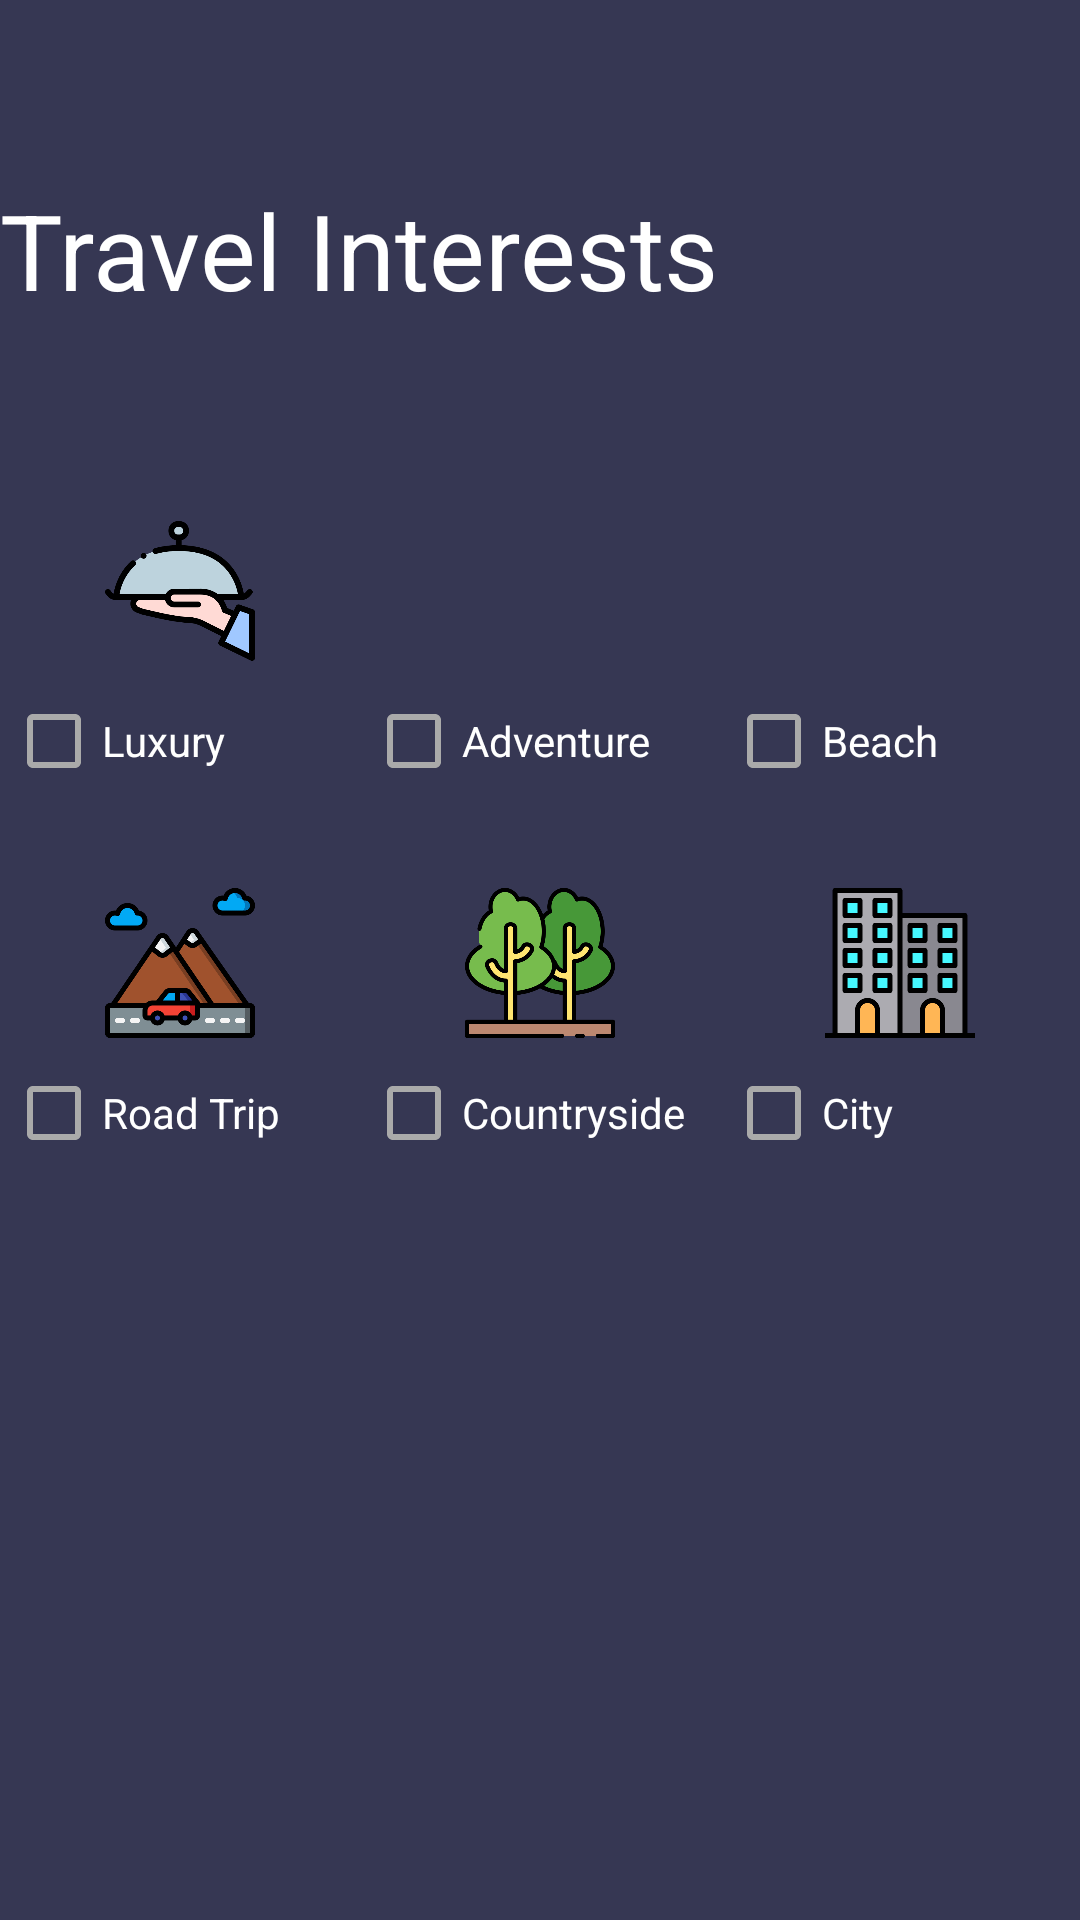

Locate icon controls on the screen. Image size 1080x1920, boxes as (x1, y1, x2, y2).
architectonic: (825, 888, 975, 1038)
cloche: (105, 521, 255, 661)
tree: (465, 888, 615, 1038)
